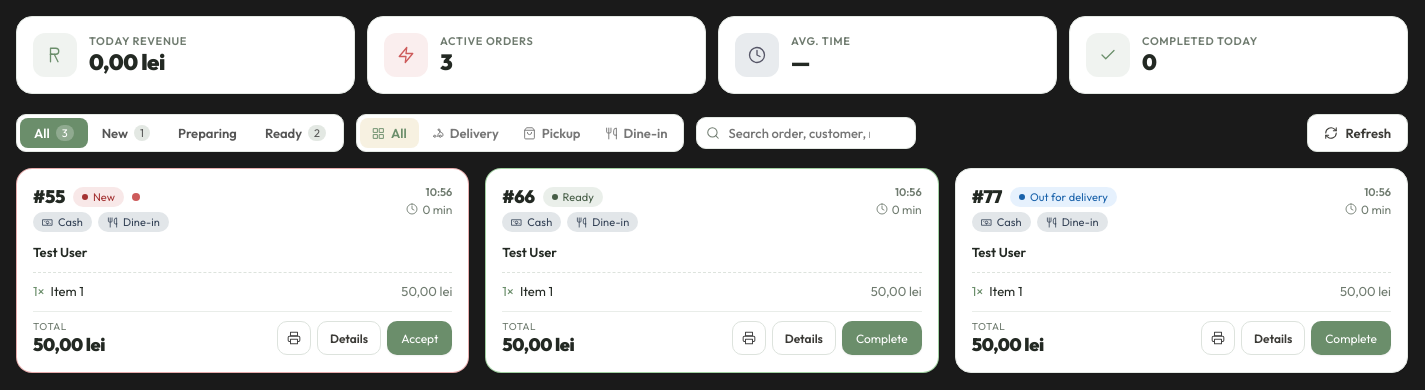
OrdersScreen › ORD-01: live orders list with status filtering › filter "ready" shows ready + out orders
Click the button "Ready 2".
click(295, 133)  # box [251,118,340,148]
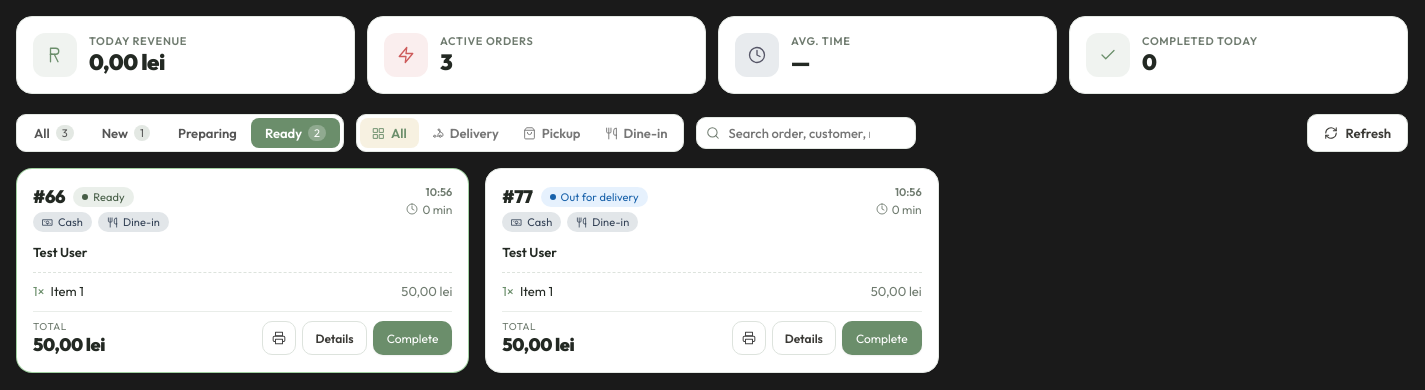
Expected: the text "#66" is shown, [33,185,65,208]
Expected: the text "#55" is gone
